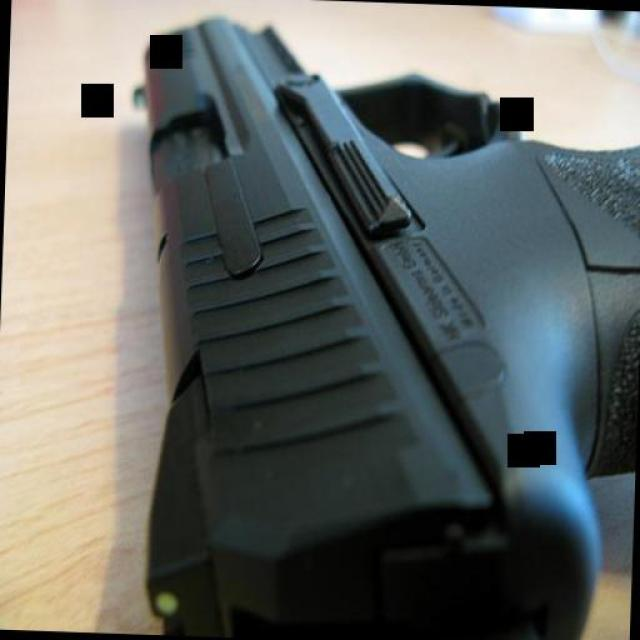gun: (110, 12, 640, 640)
